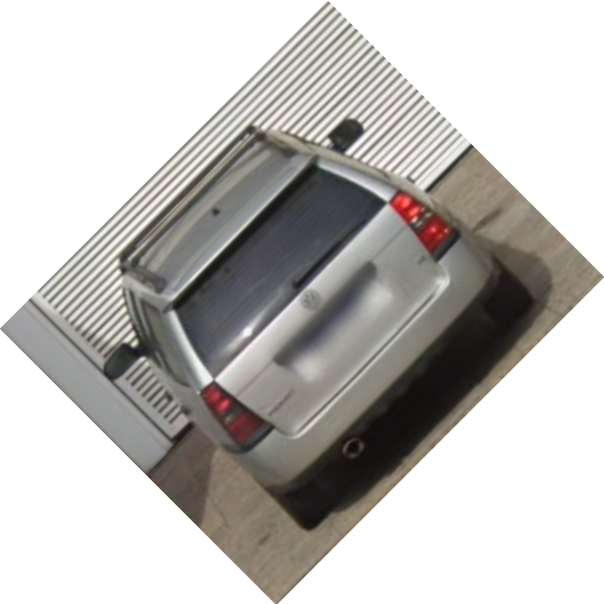car: (100, 117, 537, 530)
